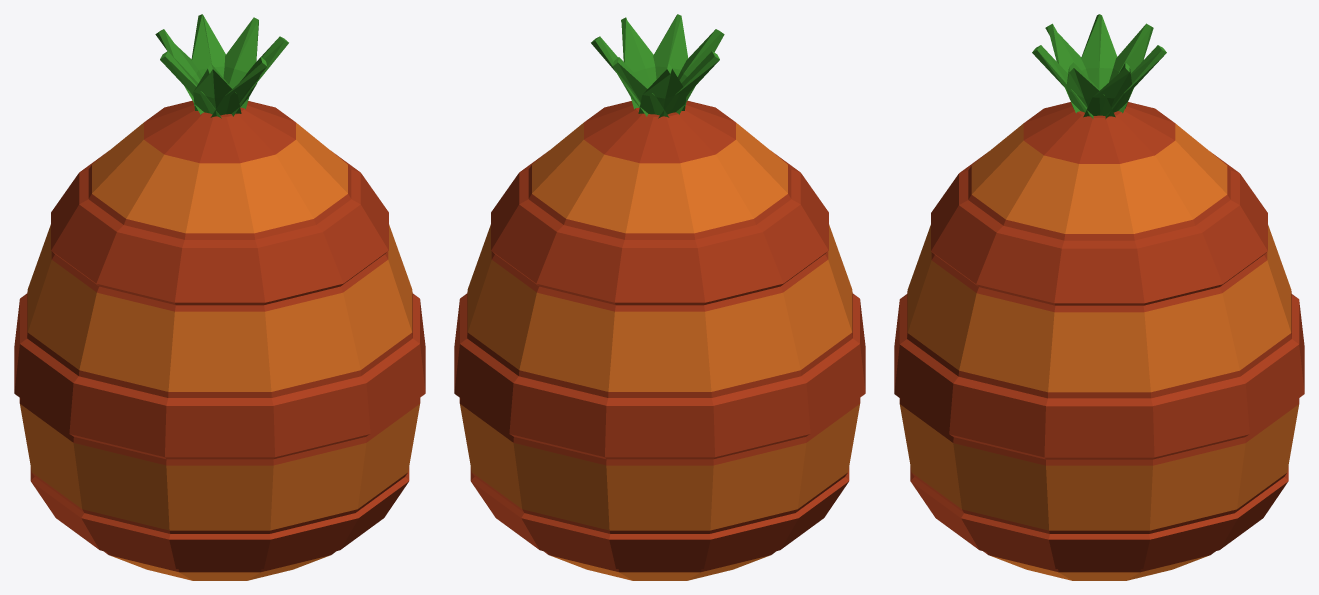
File: DesertMesa.fbx
3 renders of one model, left to right at view 1: azimuth 30°, elevation 25°; view 2: azimuth 150°, elevation 25°; view 3: azimuth 270°, elevation 25°, orthographic.
Visible parts, largest first — view 1: Body; view 2: Body; view 3: Body.
Boxes of the visible parts, left/top/right/bottom form: Body: left=14, top=14, right=425, bottom=580; Body: left=454, top=14, right=865, bottom=580; Body: left=894, top=14, right=1304, bottom=580.
Size of the model in its own units: 4.76 by 6.39 by 4.76.
